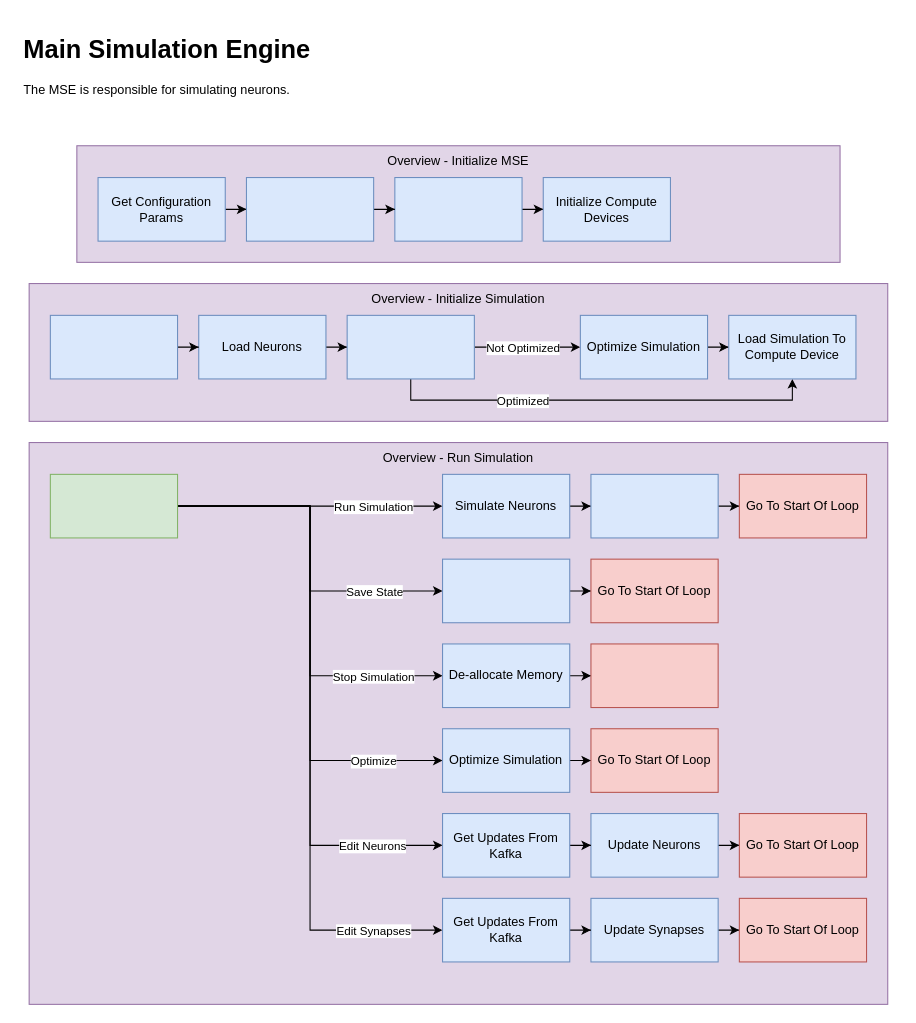
The diagram is 916 pixels wide and 1023 high, and some of its shapes have lost their labels. The shapes that lost their labels are listed below. From the top down, each one's centre as x and y in pixels, then its label:
point (309, 208): Elect Leader From Zookeeper Ensemble
point (458, 208): Load Neuron Simulation Kernels/Models
point (113, 346): Load Simulation Configuration
point (410, 346): Check Optimization Status
point (113, 505): Get Command From Leader
point (654, 505): Send Interconnect / Simulation API Data
point (505, 590): Save Neuron States Into Database
point (654, 675): End Simulation Instance
